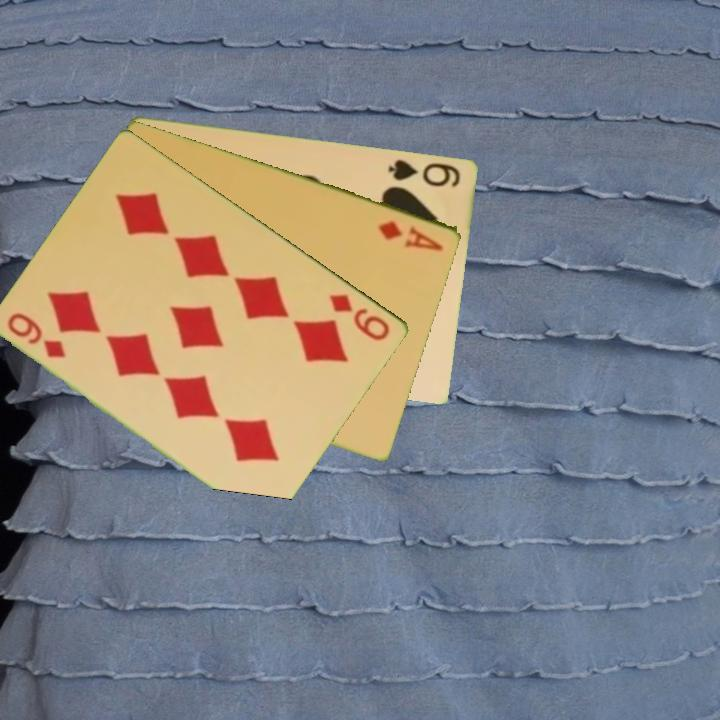6s: (385, 155, 464, 189)
9d: (326, 290, 394, 344), (4, 309, 70, 361)
Ad: (375, 217, 446, 254)
